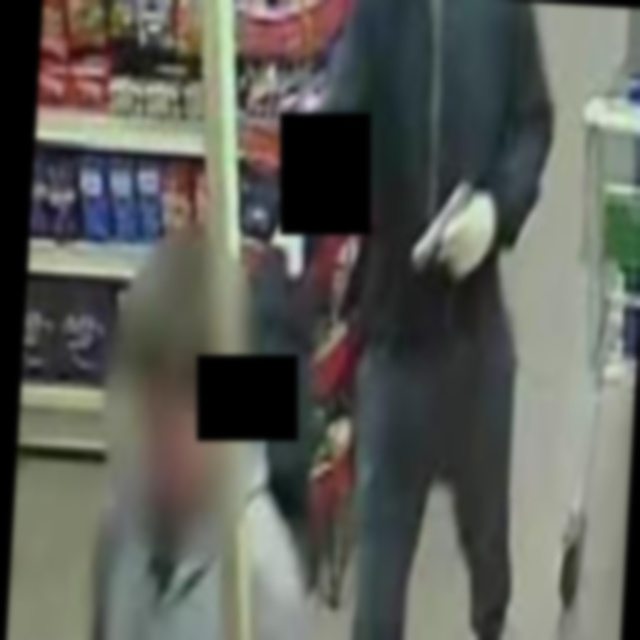gun: (401, 156, 488, 297)
